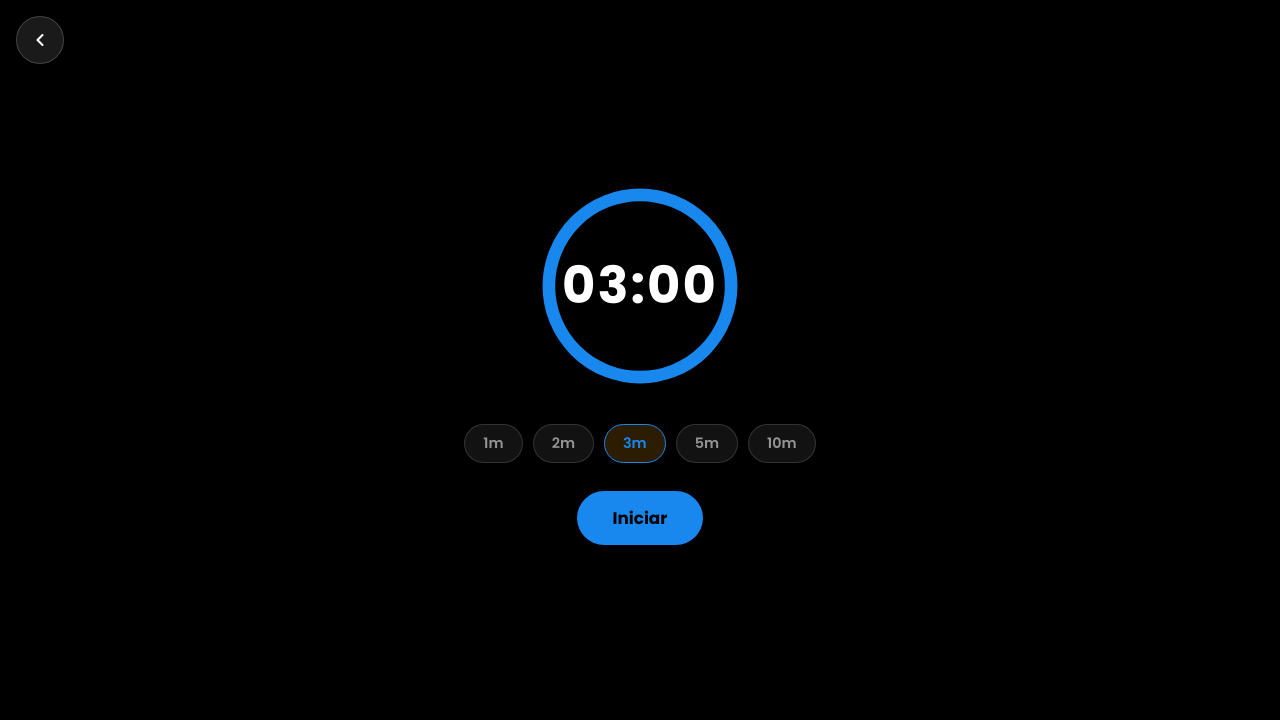
it: <Temporizador> › selecting a preset updates the displayed time
The image size is (1280, 720).
Step 1. Click the button "5m" → [707, 443], box [676, 424, 738, 462]
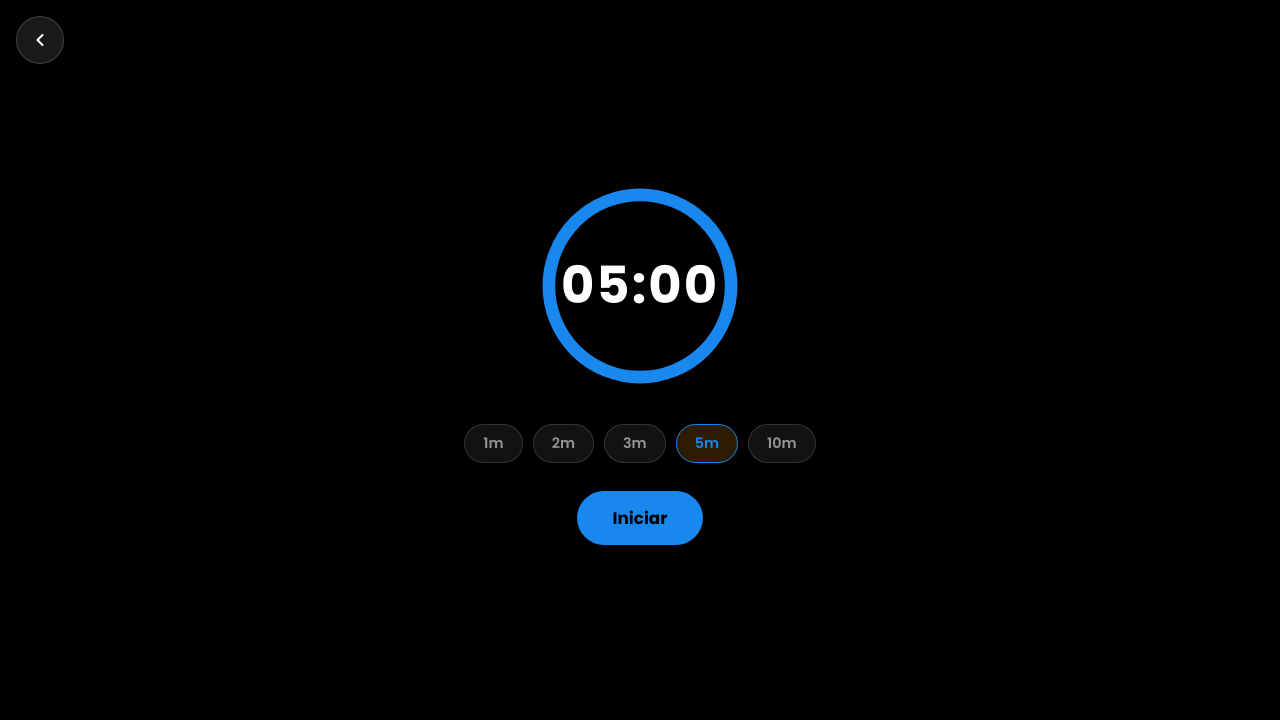
Now the text "05:00" is shown, box [561, 244, 719, 326]
